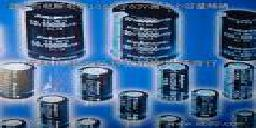Electrolytic-Capacitor: (103, 5, 184, 64), (20, 4, 93, 62), (154, 63, 192, 103), (77, 64, 113, 104), (1, 62, 37, 98), (188, 85, 220, 118), (118, 89, 147, 121)
